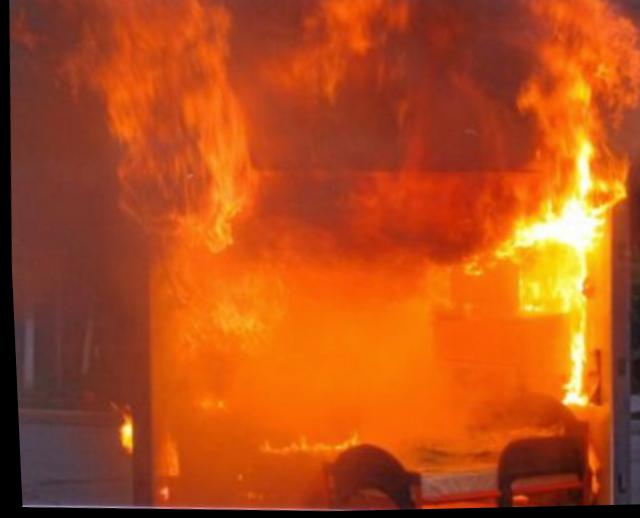fire: (65, 0, 628, 447)
